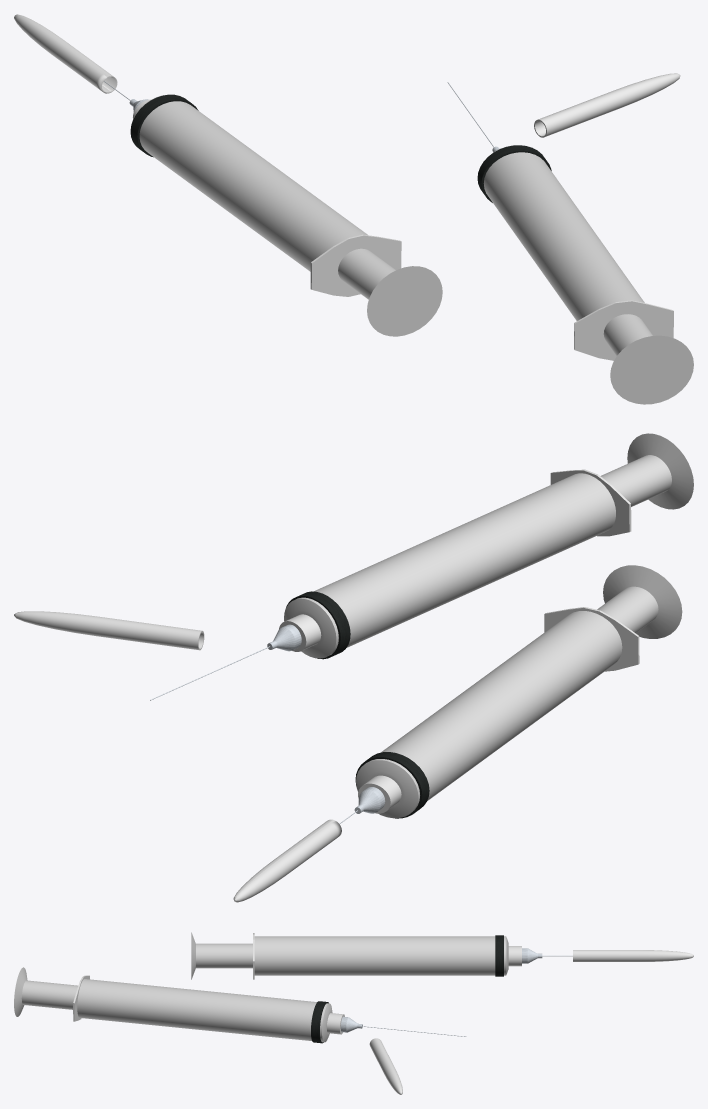
File: syringe.fbx
The picture shows the model from 3 angles, top to bottom: view 1: azimuth 30°, elevation 25°; view 2: azimuth 150°, elevation 25°; view 3: azimuth 270°, elevation 25°; orthographic projection. The views are drawn at different scales.
Visible parts, largest first — view 1: Cylinder, Cylinder.004, Cylinder.007, Plane.001, Plane, Cylinder.001, Cylinder.005; view 2: Cylinder.004, Cylinder, Cylinder.007, Plane, Plane.001, Cylinder.005, Cylinder.001, Cylinder.006, Cylinder.008, Cylinder.003; view 3: Cylinder, Cylinder.004, Cylinder.007, Cylinder.005, Cylinder.001, Cylinder.006, Cylinder.008, Cylinder.003, Cylinder.002.
Boxes of the visible parts, x1,y1,x2,y2 form: Cylinder: [133, 95, 442, 336]; Cylinder.004: [483, 147, 693, 404]; Cylinder.007: [14, 14, 680, 137]; Plane.001: [574, 300, 673, 360]; Plane: [310, 234, 401, 296]; Cylinder.001: [130, 94, 198, 157]; Cylinder.005: [477, 145, 551, 202]; Cylinder.004: [284, 433, 693, 658]; Cylinder: [356, 565, 682, 818]; Cylinder.007: [14, 611, 341, 902]; Plane: [544, 607, 639, 671]; Plane.001: [550, 469, 631, 536]; Cylinder.005: [286, 591, 350, 659]; Cylinder.001: [355, 752, 429, 818]; Cylinder.006: [150, 624, 301, 700]; Cylinder.008: [279, 614, 321, 651]; Cylinder.003: [358, 775, 401, 813]; Cylinder: [191, 932, 508, 979]; Cylinder.004: [14, 967, 332, 1042]; Cylinder.007: [369, 950, 693, 1094]; Cylinder.005: [311, 1001, 328, 1043]; Cylinder.001: [495, 935, 503, 976]; Cylinder.006: [340, 1016, 466, 1036]; Cylinder.008: [327, 1013, 344, 1034]; Cylinder.003: [508, 946, 521, 966]; Cylinder.002: [522, 948, 572, 963].
Size of the model in its own units: 620 by 83.63 by 1171.
Materials: 6 (2 with a texture image).
